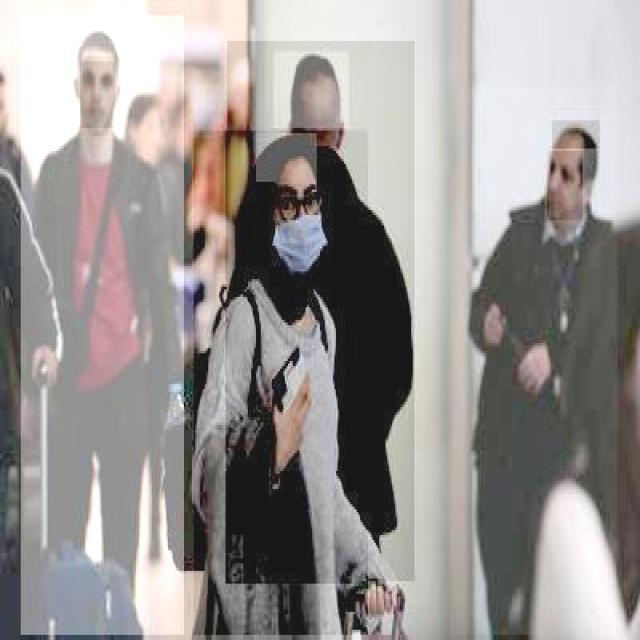face_mask: (274, 180, 331, 272)
face_nomask: (546, 151, 582, 223), (78, 61, 115, 130)
glasses: (276, 186, 324, 227)
hand_noglove: (268, 370, 314, 457), (352, 563, 403, 620), (516, 337, 556, 403), (24, 338, 64, 394)
head_nohelmet: (272, 51, 349, 131), (254, 133, 317, 184), (550, 120, 600, 151), (78, 28, 122, 59)
person: (19, 15, 184, 638), (226, 41, 414, 584), (454, 87, 618, 637), (192, 130, 368, 638)
